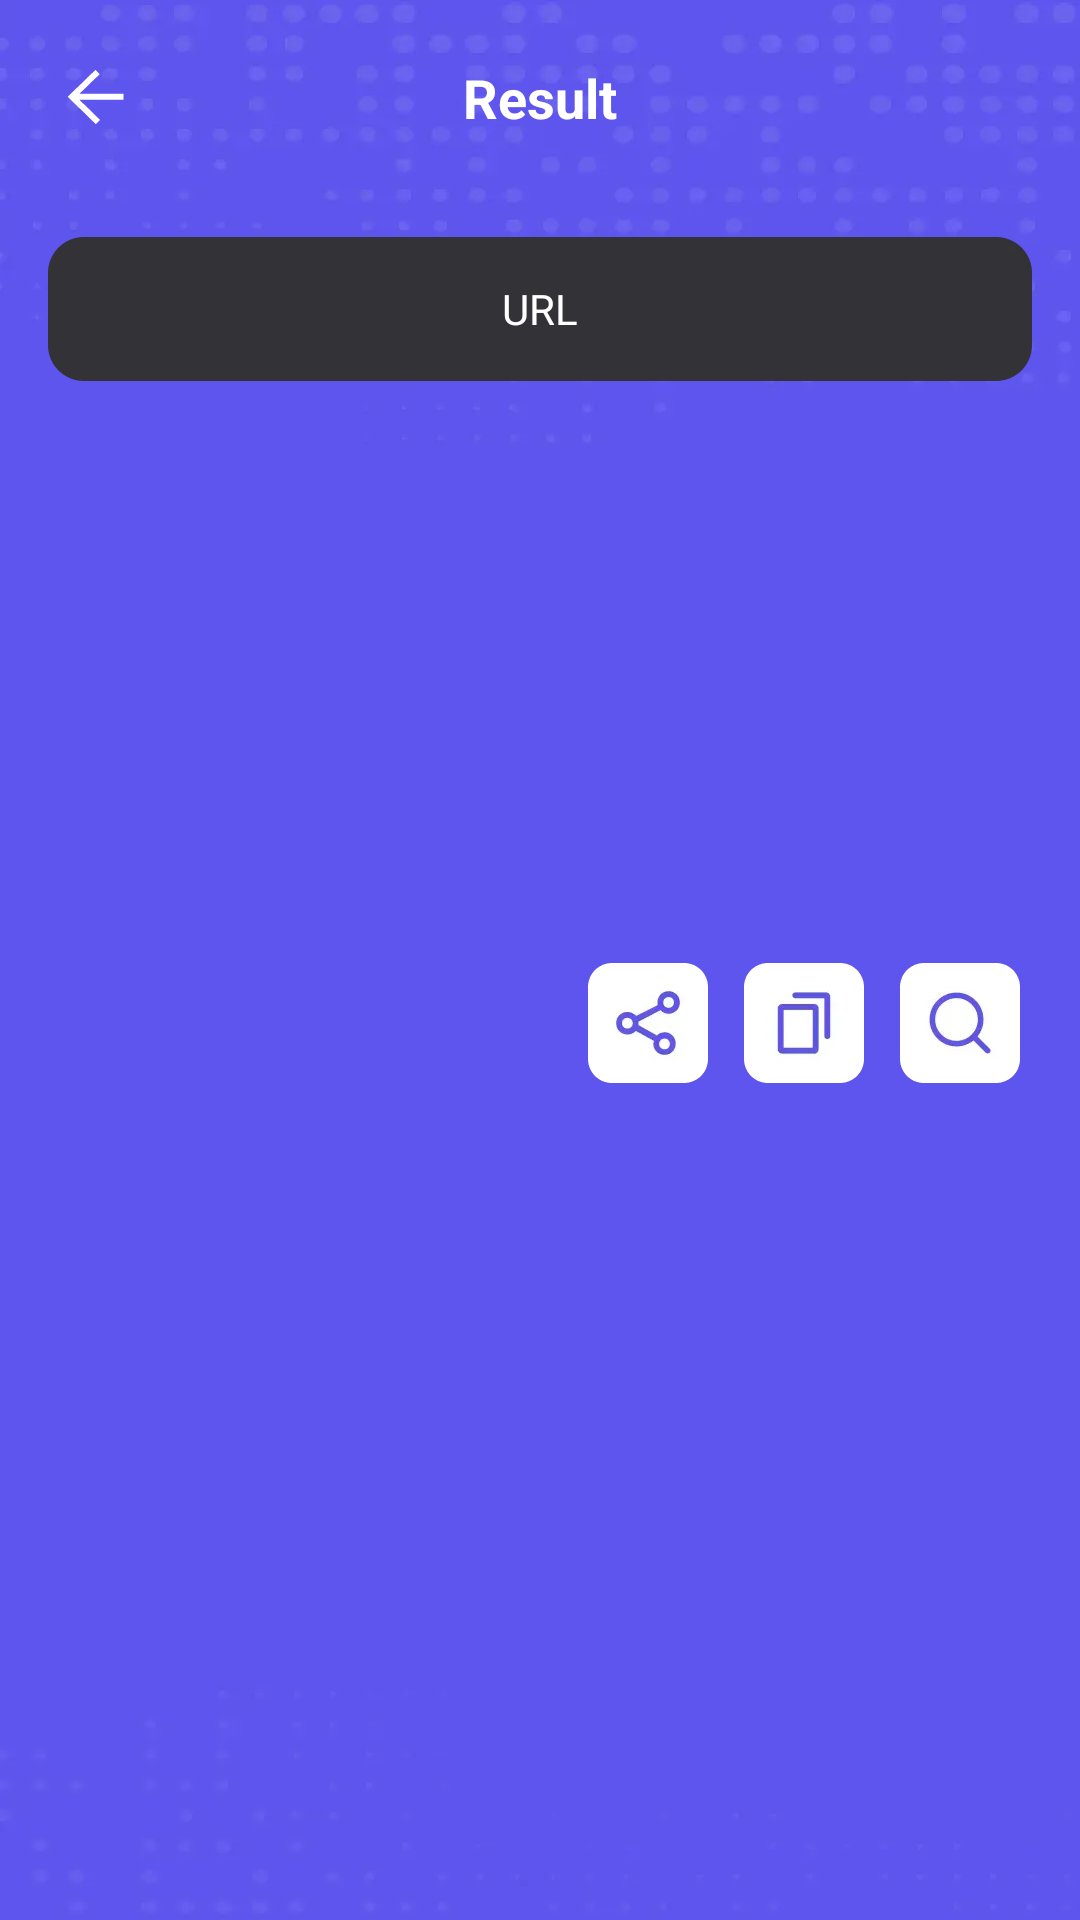

Named icons in this screenshot (1080*1920) and their centers, (x,y):
back: (96,97)
ser: (960,1023)
share: (648,1023)
